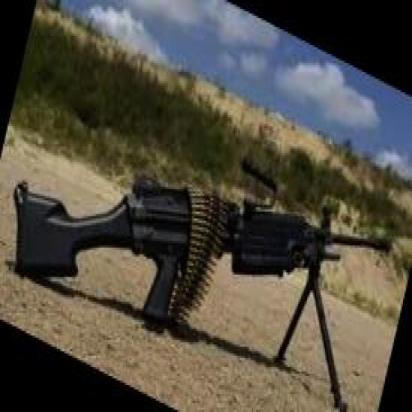Gun: (0, 42, 394, 412)
